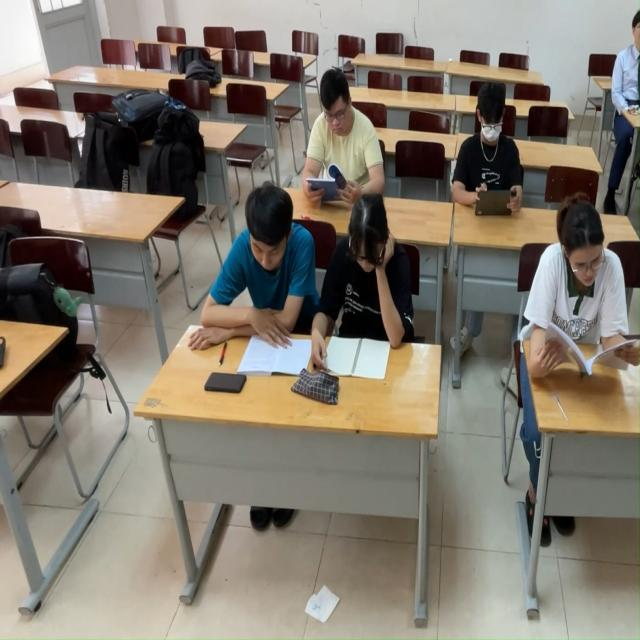read: (539, 211, 640, 426), (219, 182, 309, 392), (326, 198, 421, 394), (452, 87, 528, 219), (292, 75, 353, 204)
